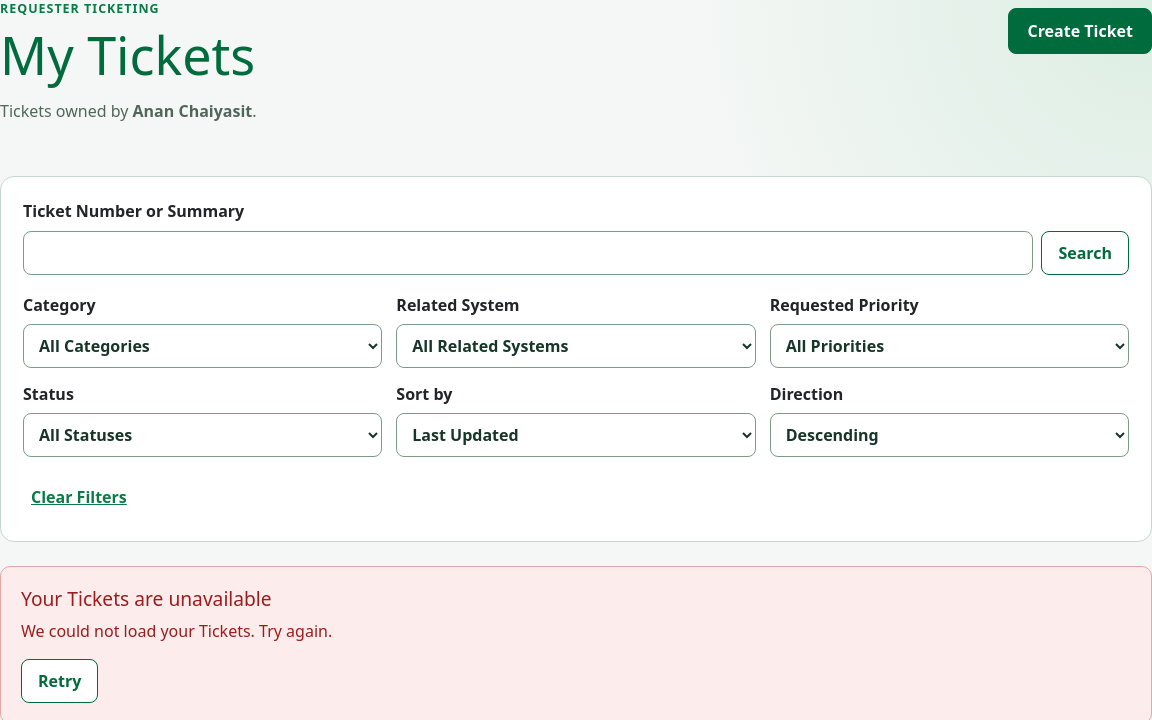
My Tickets › shows a safe recoverable failure without stale rows
The image size is (1152, 720).
expect the message shows "Your Tickets are unavailable": met, box [21,586,272,612]
expect the text "Cannot connect to VPN" is not shown: met
Click the button "Retry" at (60, 680), box [21,658,98,702]
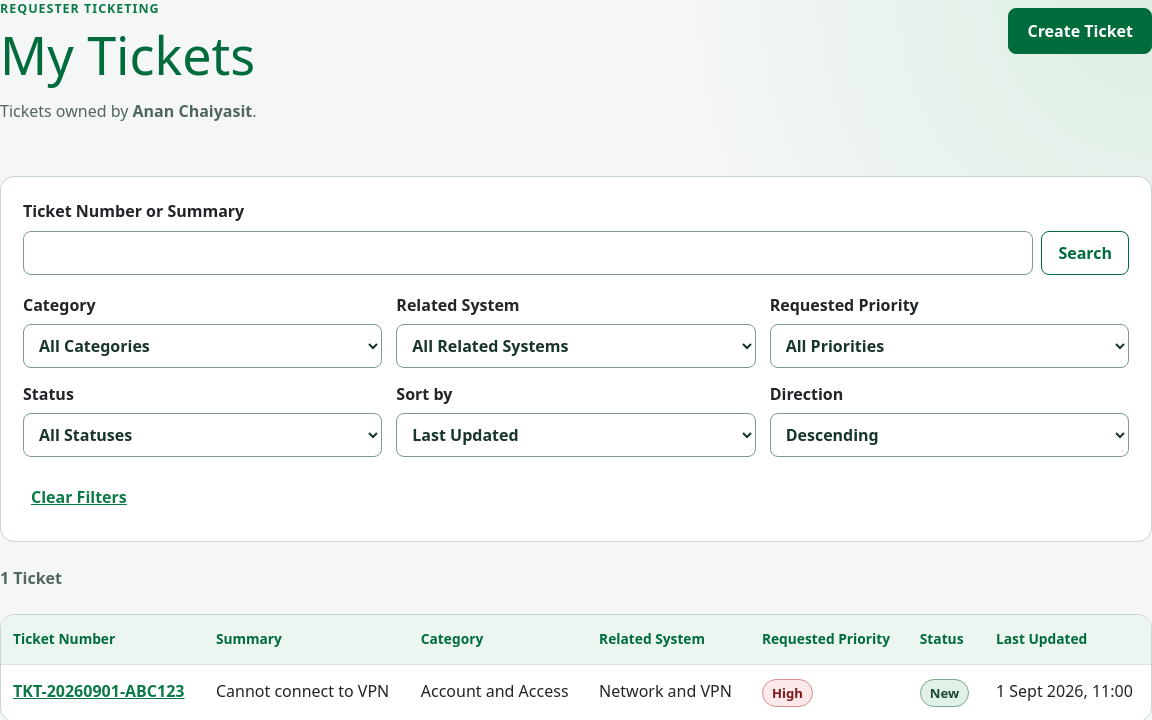
expect the text "Cannot connect to VPN" is shown 2 times: met
